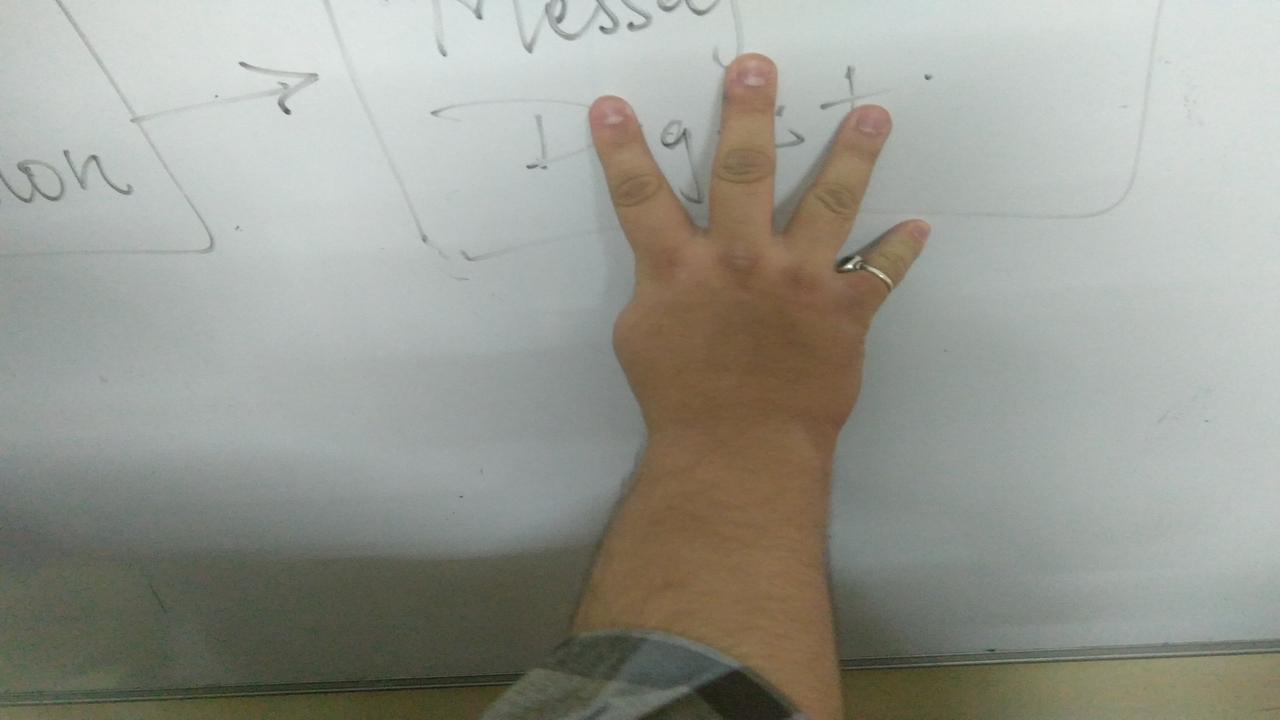fingertip: (722, 48, 780, 98), (836, 100, 900, 142), (580, 92, 642, 134), (891, 213, 935, 259)
